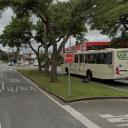Pare: (64, 53, 75, 64)
